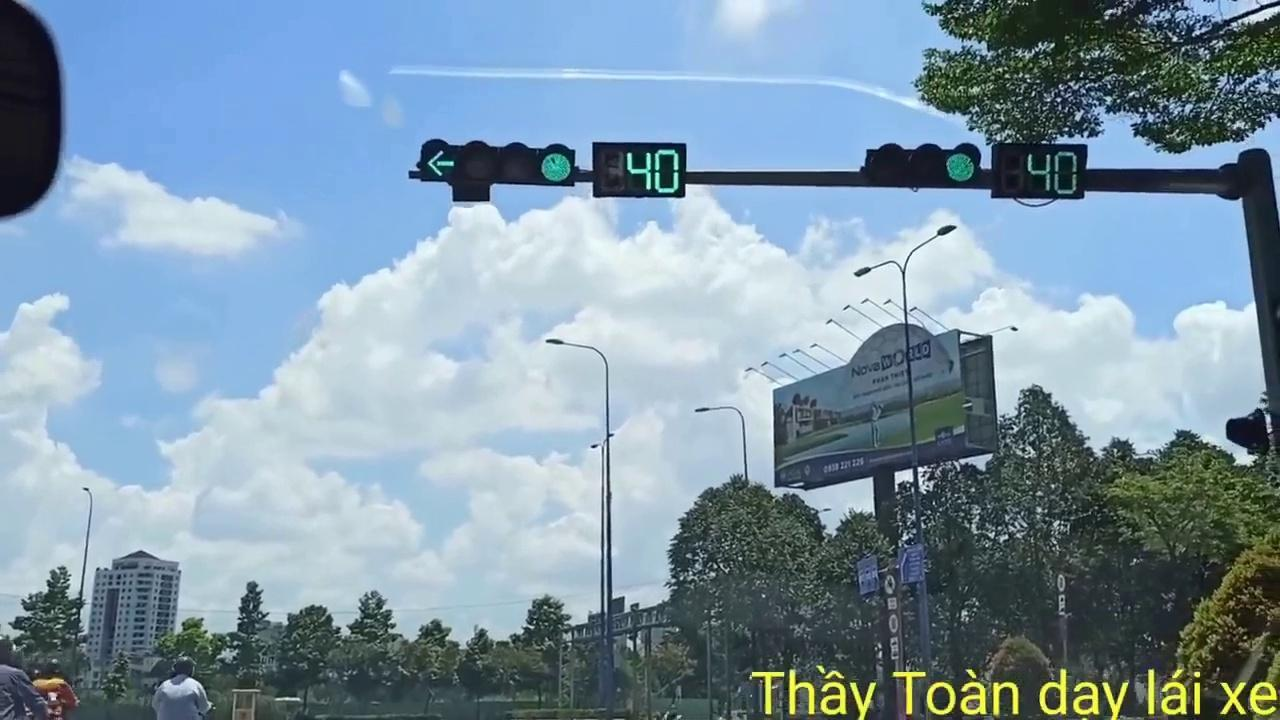Biển phụ: (888, 636, 901, 660), (1058, 594, 1067, 618), (886, 596, 898, 610)
Chỉ hướng đường: (895, 544, 927, 583)
Cấm xe máy: (882, 573, 898, 596)
Làn đường cho từng xe: (855, 558, 880, 594)
